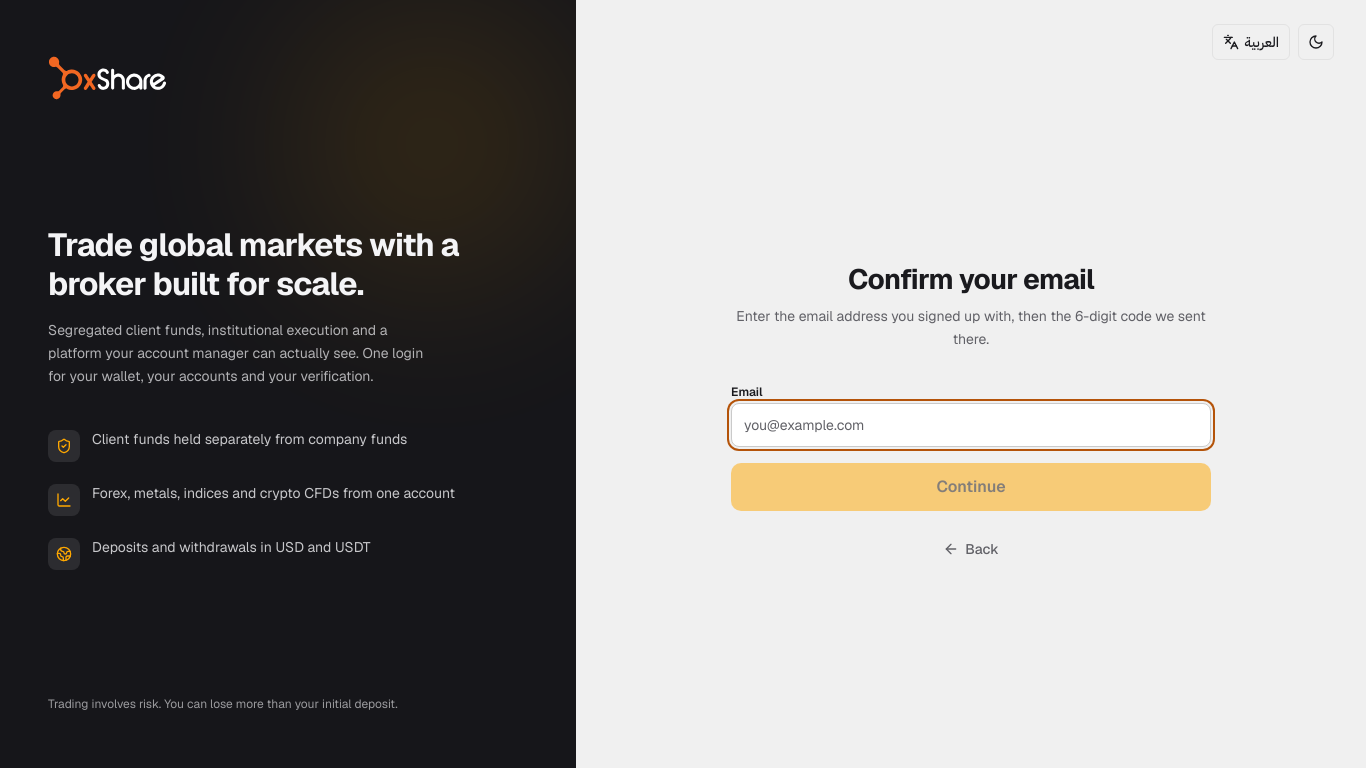
Test: who the screen is waiting on › asks for the address when it has none — and sends NO code for it
Step 1. Type "ada@example.test" into the field labelled "Email" → (971, 425), box [731, 403, 1211, 447]
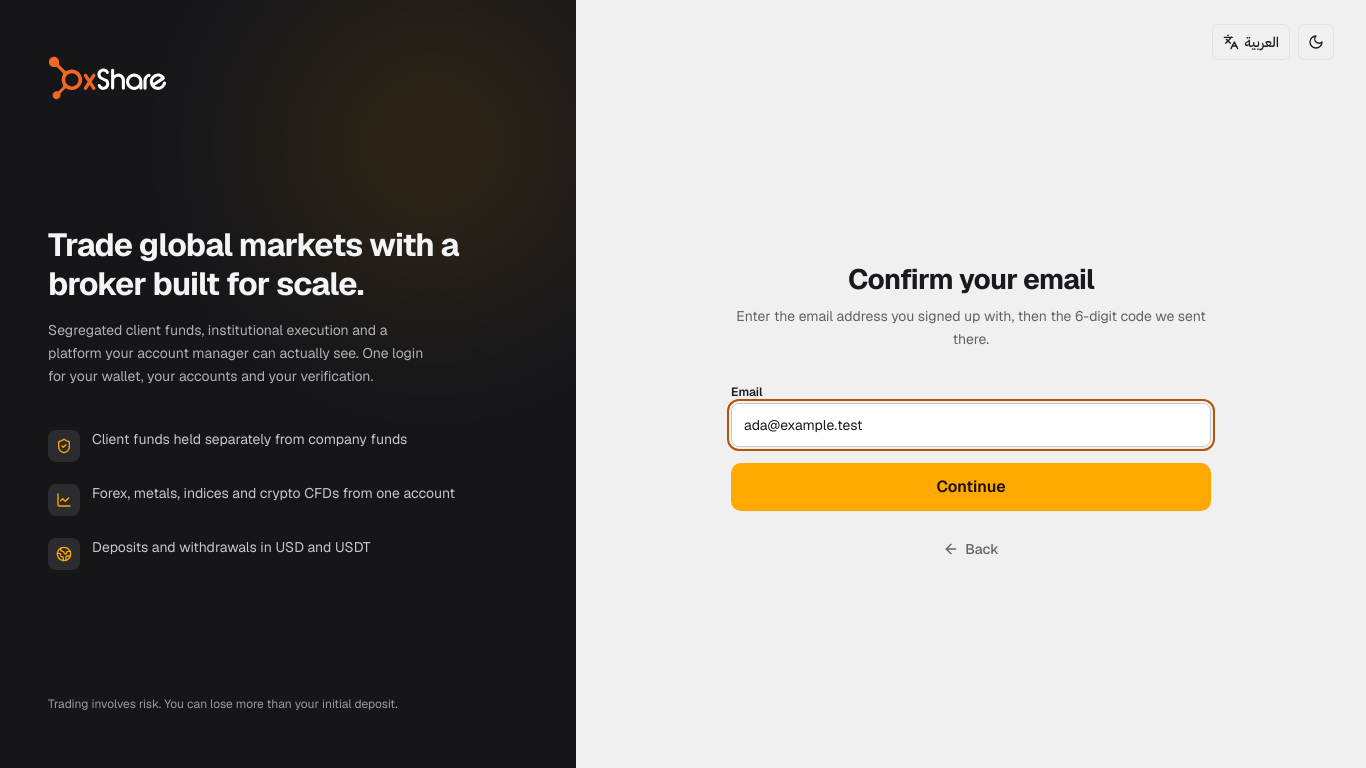
Step 2. Click the button "Continue" → (971, 487), box [731, 463, 1211, 511]
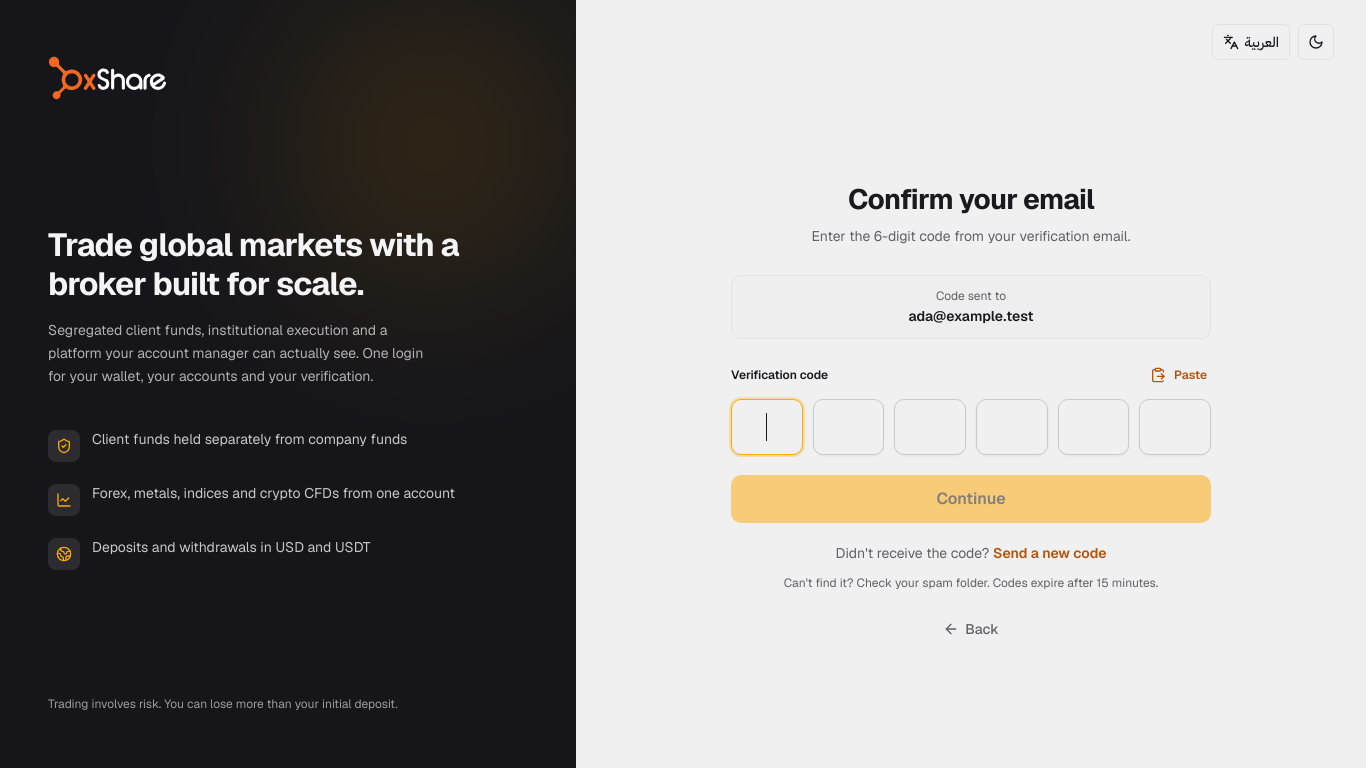
Check: the text "ada@example.test" is shown, box [908, 307, 1034, 325]
Check: the button "Send a new code" is shown, box [993, 543, 1106, 563]
